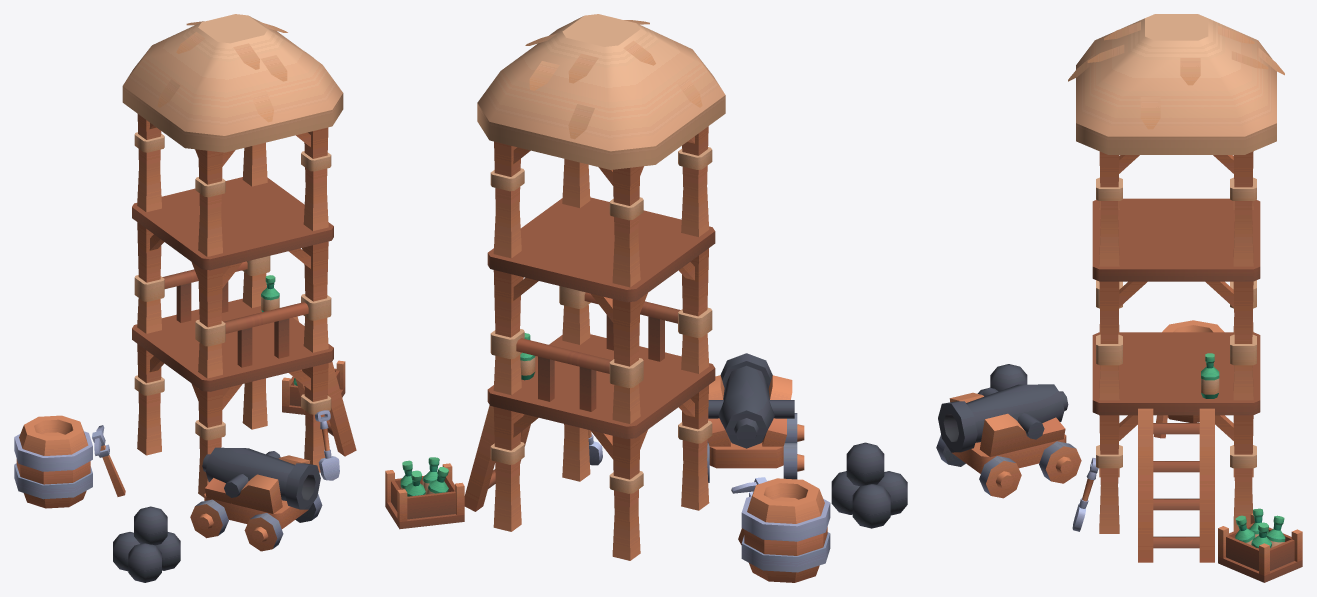
Rendered from Tower.glb.
3 renders of one model, left to right at view 1: azimuth 30°, elevation 25°; view 2: azimuth 150°, elevation 25°; view 3: azimuth 270°, elevation 25°, orthographic. The views are drawn at different scales.
Visible parts, largest first — view 1: tower; view 2: tower; view 3: tower.
Boxes of the visible parts, bbox=[...] form: tower: bbox=[14, 14, 356, 582]; tower: bbox=[385, 14, 907, 582]; tower: bbox=[936, 14, 1302, 582].
Bounding box in the file's own units: 6.8 × 8.14 × 5.47.
Materials: 1 (1 with a texture image).
